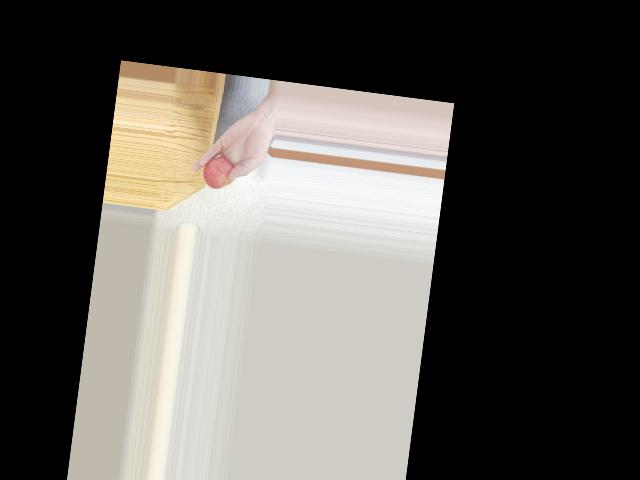apple: (201, 151, 240, 191)
